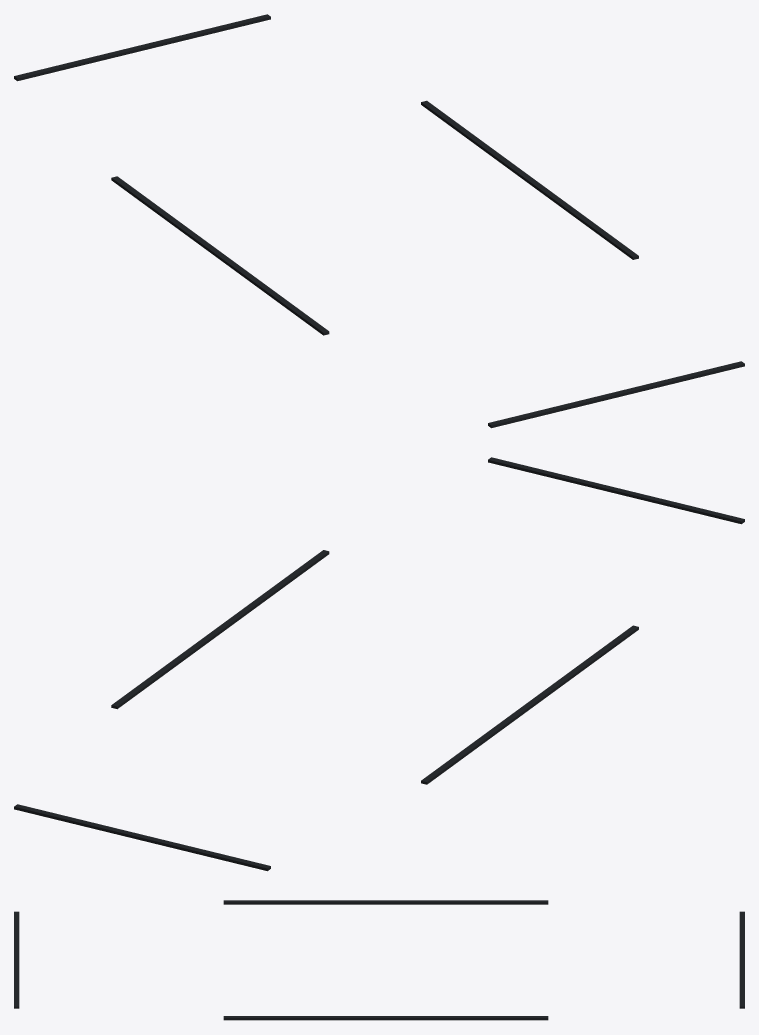
The model's file is kaze_gt.glb.
3 views of the same model, one above another, from view 1: azimuth 30°, elevation 25°; view 2: azimuth 150°, elevation 25°; view 3: azimuth 270°, elevation 25° (orthographic). The views are drawn at different scales.
Visible parts, largest first — view 1: model; view 2: model; view 3: model.
Boxes of the visible parts, x1,y1,x2,y2 form: model: [14, 14, 744, 428]; model: [14, 457, 744, 871]; model: [14, 900, 744, 1020].
Size of the model in its own units: 1.49 by 0.0181 by 3.9.
Materials: 2 (1 with a texture image).
